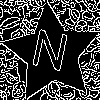N: (27, 28, 71, 81)
